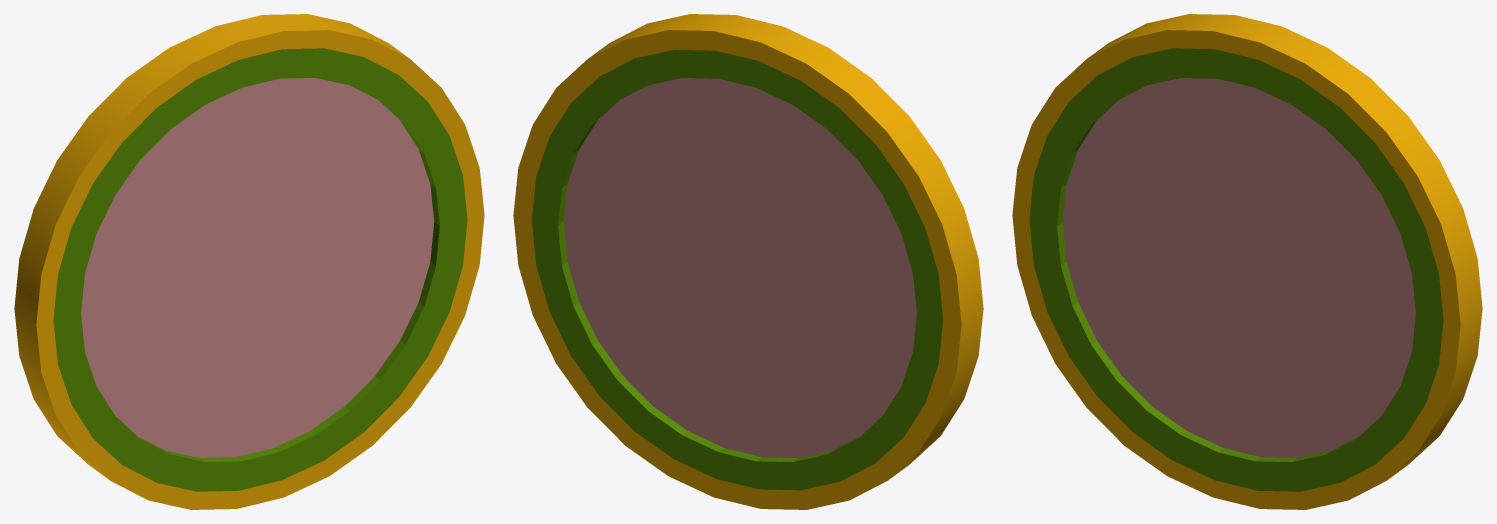
The picture shows the model from 3 angles, left to right: view 1: azimuth 30°, elevation 25°; view 2: azimuth 150°, elevation 25°; view 3: azimuth 330°, elevation 25°; orthographic projection.
Parts seen in each view (by area): view 1: Circle; view 2: Circle; view 3: Circle.
Boxes of the visible parts, left/top/right/bottom form: Circle: left=14, top=14, right=484, bottom=509; Circle: left=513, top=14, right=983, bottom=509; Circle: left=1012, top=14, right=1482, bottom=509.
Bounding box in the file's own units: 0.8457 × 0.8411 × 0.0718.
